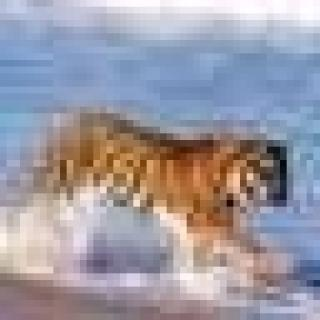Tiger: (6, 97, 318, 312)
